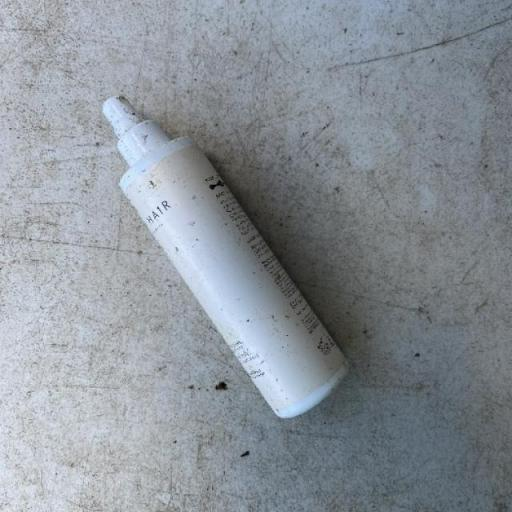plastic: (100, 94, 350, 418)
